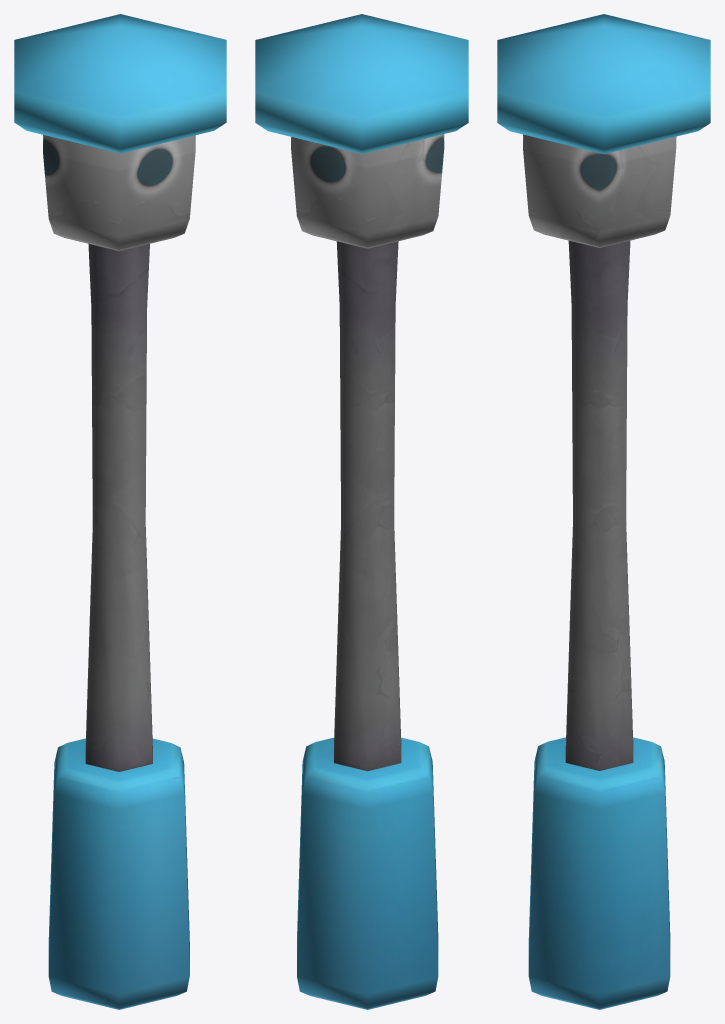
Rendered from Post_01.fbx.
The picture shows the model from 3 angles, left to right: view 1: azimuth 30°, elevation 25°; view 2: azimuth 150°, elevation 25°; view 3: azimuth 270°, elevation 25°; orthographic projection.
Parts seen in each view (by area): view 1: Post_01; view 2: Post_01; view 3: Post_01.
Boxes of the visible parts, bbox=[...] form: Post_01: bbox=[14, 14, 226, 1009]; Post_01: bbox=[255, 14, 468, 1009]; Post_01: bbox=[497, 14, 710, 1009].
Bounding box in the file's own units: 0.9843 × 4.21 × 0.8524.
